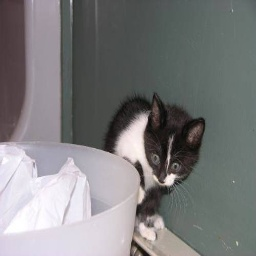cat: (104, 91, 205, 242)
